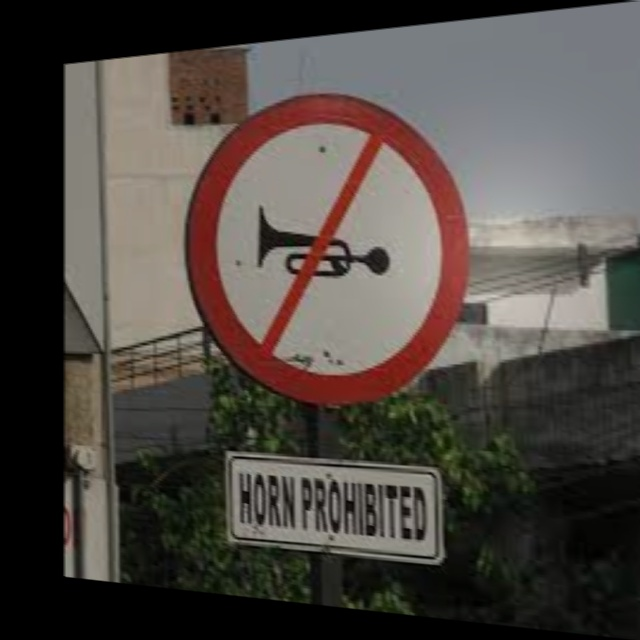Horn_Prohibited: (196, 82, 466, 406)
